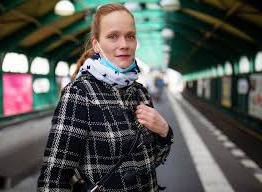mask_weared_incorrect: (101, 19, 136, 73)
